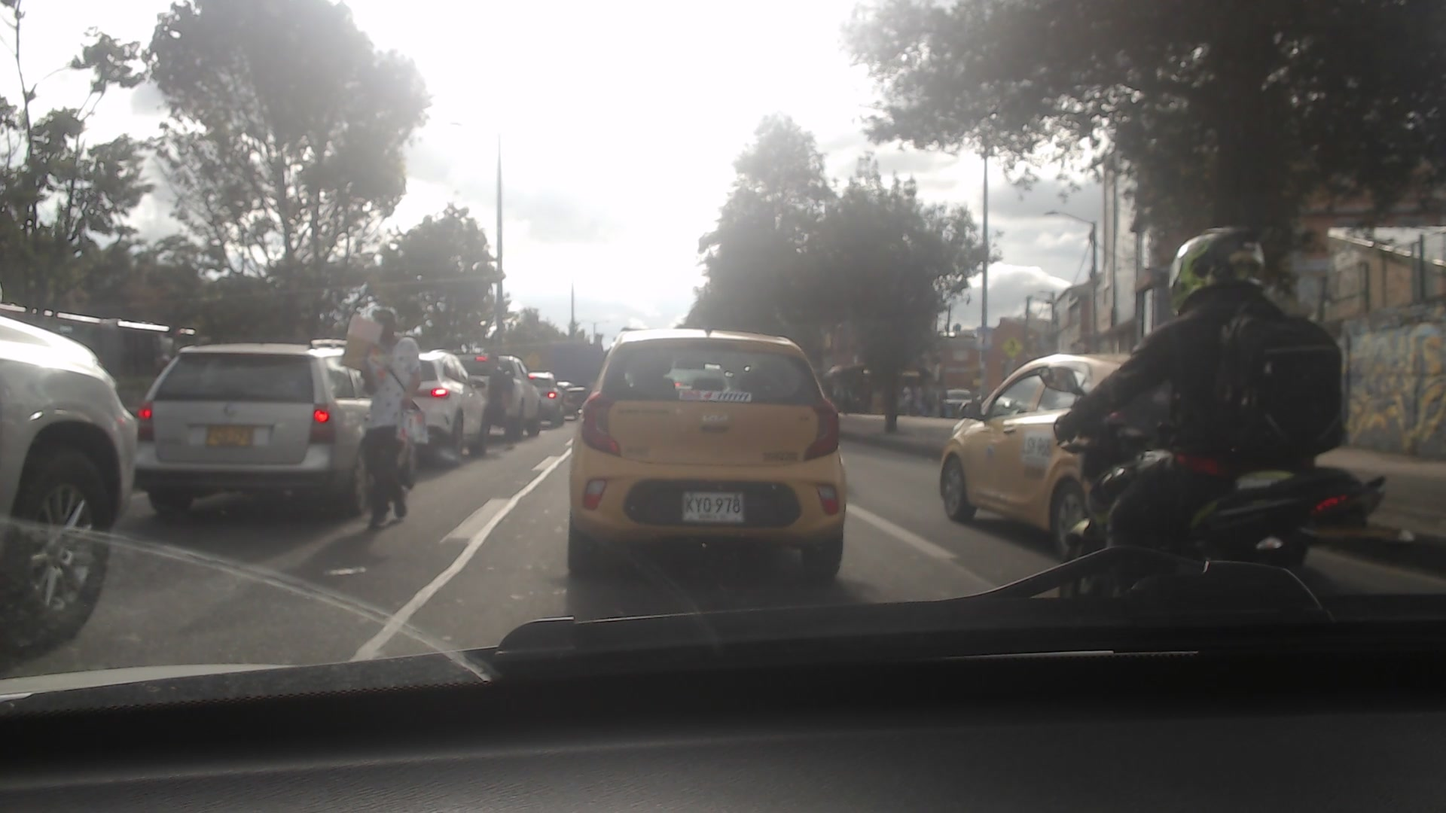car: (570, 323, 847, 584), (139, 342, 372, 531), (401, 352, 484, 455)
motorcycle: (1032, 371, 1369, 584)
person: (1125, 222, 1345, 570), (339, 303, 429, 527)
